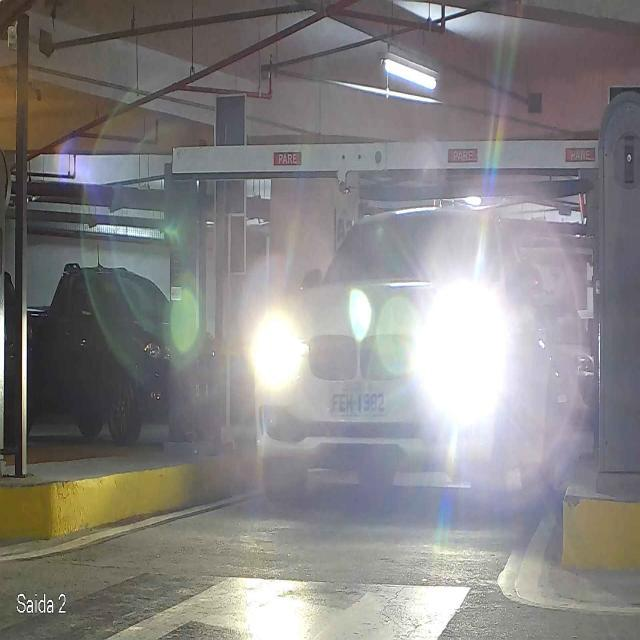old_plate: (326, 383, 387, 418)
